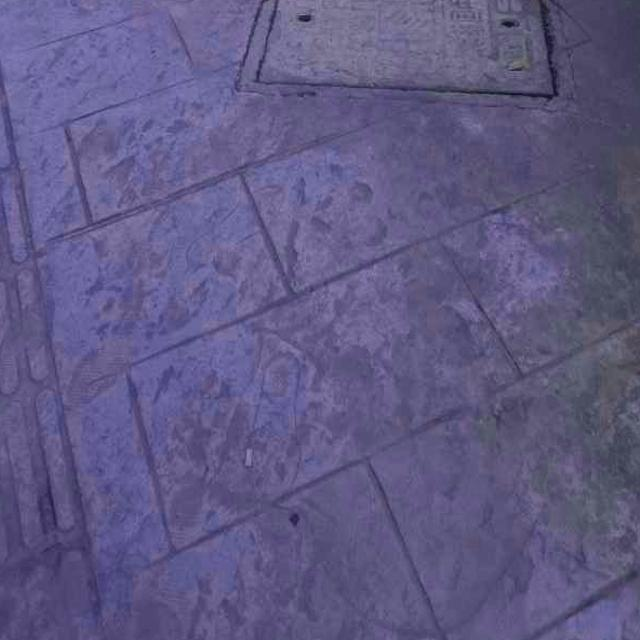good: (233, 0, 570, 109)
